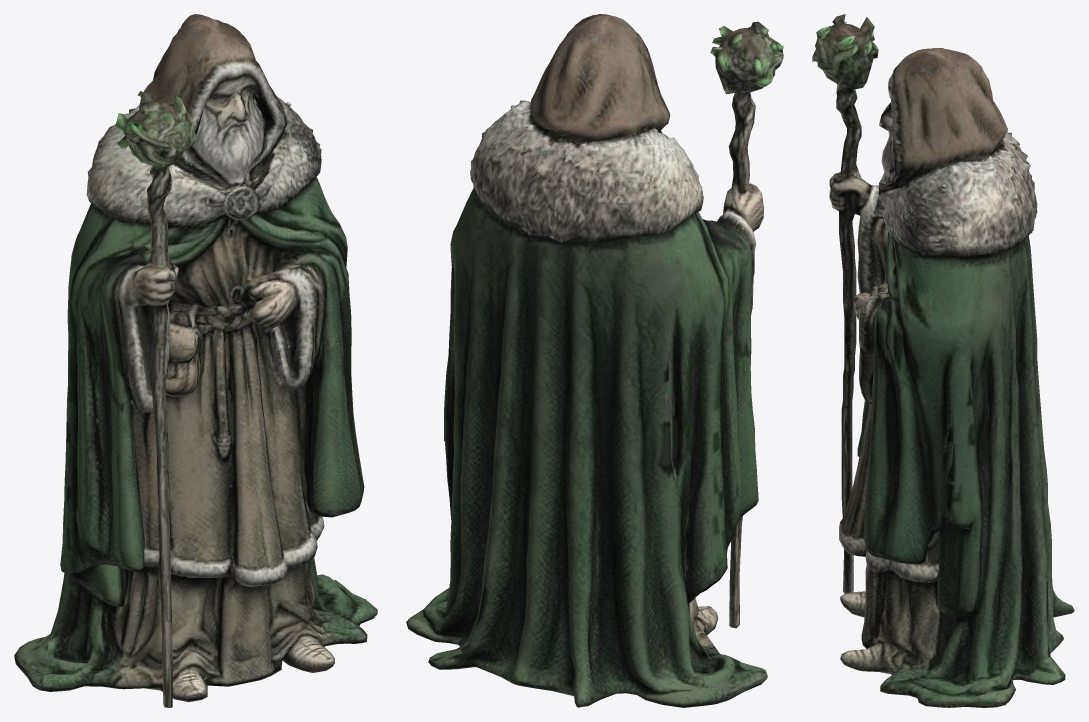
Rendered from Druid_Druid.glb.
3 renders of one model, left to right at view 1: azimuth 30°, elevation 25°; view 2: azimuth 150°, elevation 25°; view 3: azimuth 270°, elevation 25°, orthographic. The views are drawn at different scales.
Bounding box in the file's own units: 1.06 × 1.91 × 0.771.
Materials: 1 (1 with a texture image).
